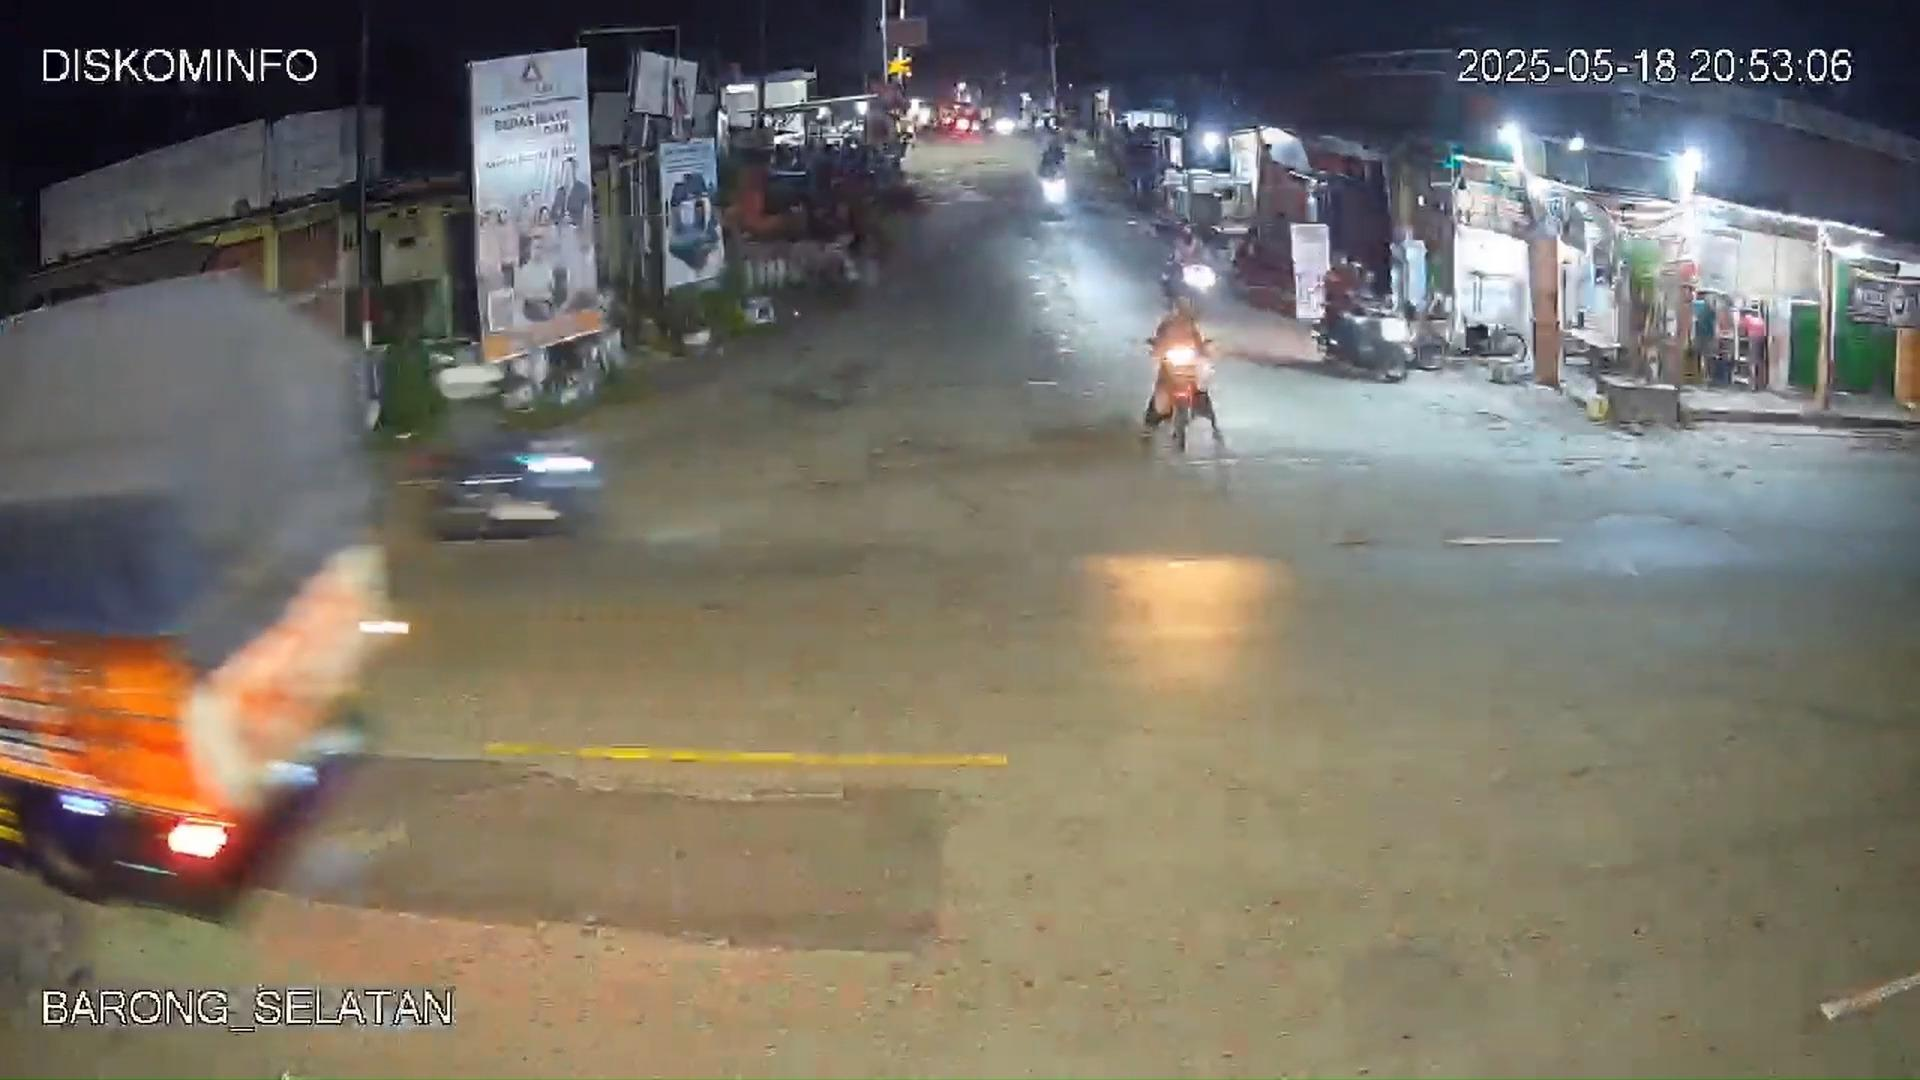Motor: (415, 430, 600, 543), (1137, 278, 1220, 440), (1319, 255, 1371, 367), (1159, 227, 1211, 306), (1036, 141, 1069, 215), (993, 115, 1017, 137)
Truck: (1, 273, 359, 922)
